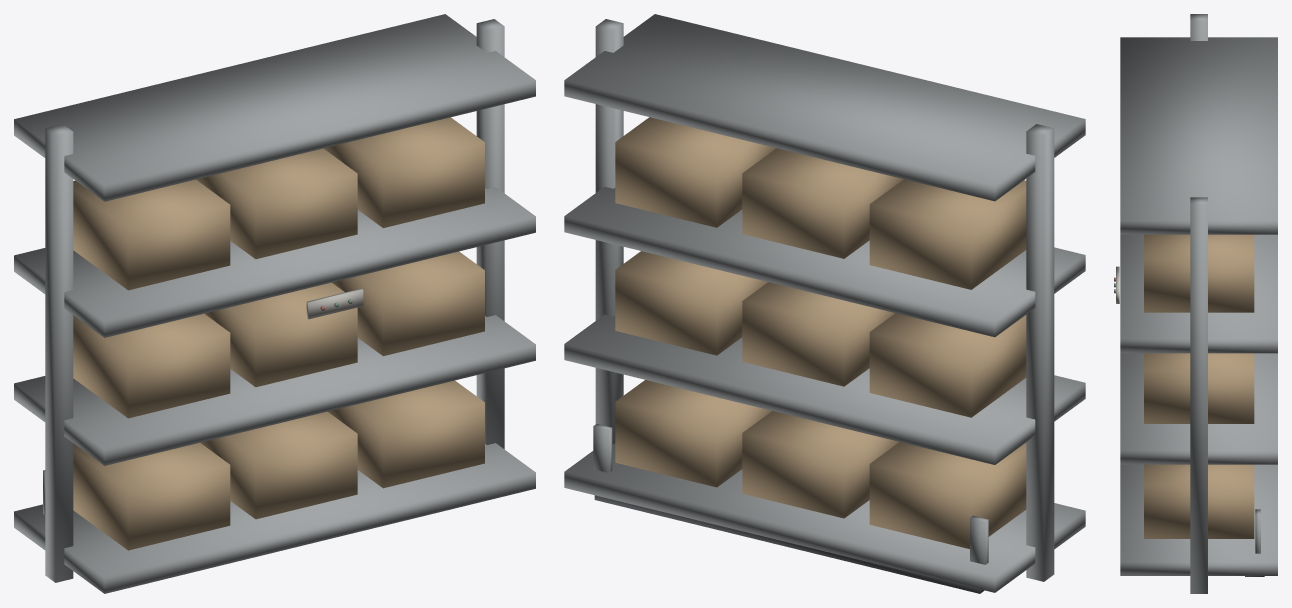
The model's file is print_drying_rack__reinforced.glb.
3 views of the same model, side by side, from view 1: azimuth 30°, elevation 25°; view 2: azimuth 150°, elevation 25°; view 3: azimuth 270°, elevation 25° (orthographic). The views are drawn at different scales.
Parts seen in each view (by area): view 1: world; view 2: world; view 3: world.
Boxes of the visible parts, x1=… form: world: x1=14, y1=14, x2=535, y2=593; world: x1=564, y1=14, x2=1085, y2=593; world: x1=1114, y1=14, x2=1277, y2=593.
Size of the model in its own units: 2.36 by 2.24 by 0.8559.
